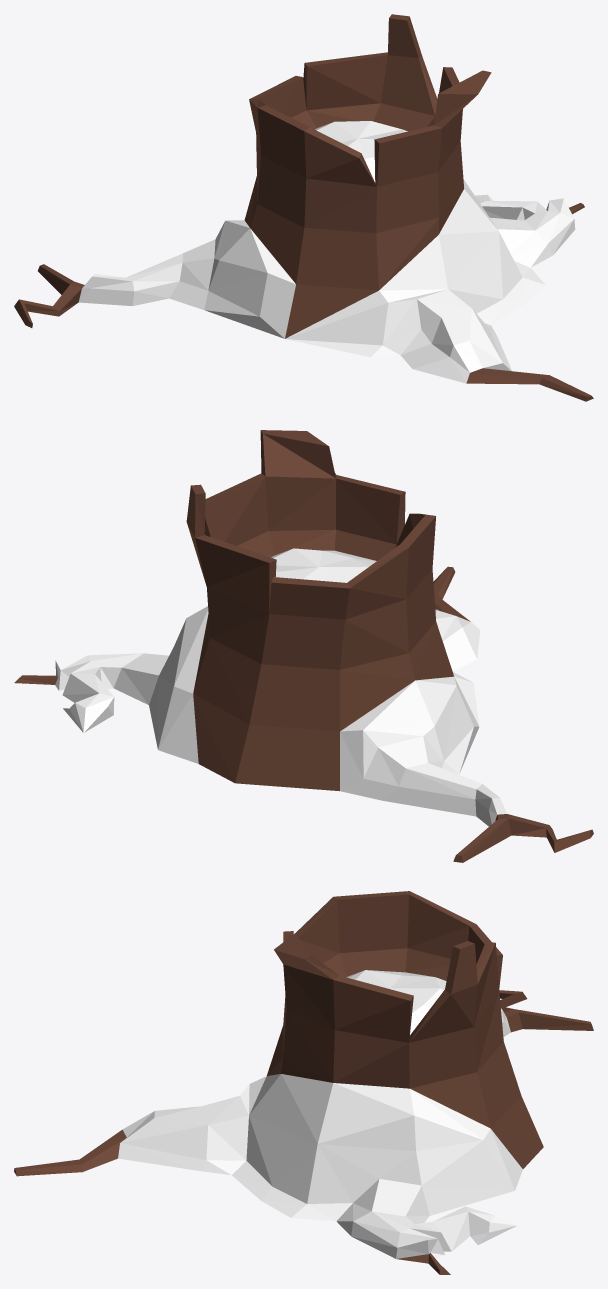
Rendered from TreeTrunk_3_Snow.fbx.
The picture shows the model from 3 angles, top to bottom: view 1: azimuth 30°, elevation 25°; view 2: azimuth 150°, elevation 25°; view 3: azimuth 270°, elevation 25°; orthographic projection. The views are drawn at different scales.
Parts seen in each view (by area): view 1: TreeTrunk_3_Snow; view 2: TreeTrunk_3_Snow; view 3: TreeTrunk_3_Snow.
Boxes of the visible parts, x1,y1,x2,y2 form: TreeTrunk_3_Snow: (14, 14, 593, 401); TreeTrunk_3_Snow: (14, 430, 593, 862); TreeTrunk_3_Snow: (14, 891, 593, 1274).
Size of the model in its own units: 1.84 by 0.7293 by 1.6.
